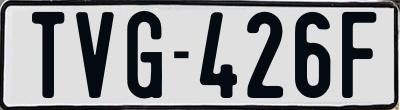2: (245, 10, 285, 102)
4: (197, 10, 236, 96)
6: (294, 9, 330, 101)
F: (342, 11, 377, 98)
G: (125, 8, 165, 99)
T: (30, 12, 67, 103)
V: (74, 11, 115, 103)
